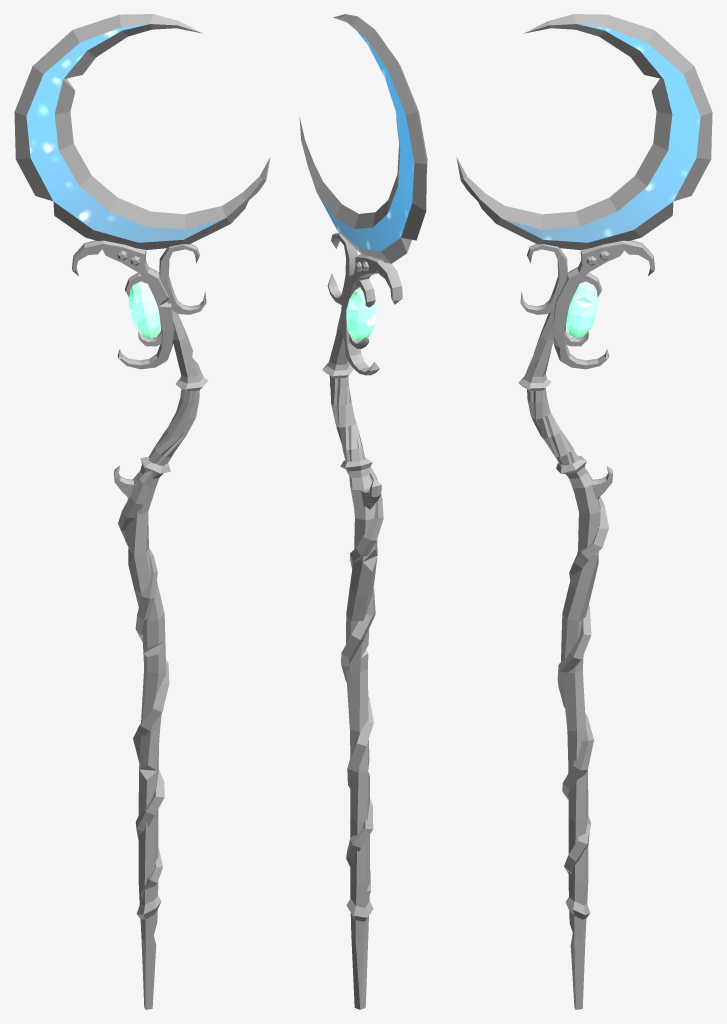
Rendered from SM_Wep_Staff_01.fbx.
The picture shows the model from 3 angles, left to right: view 1: azimuth 90°, elevation 25°; view 2: azimuth 210°, elevation 25°; view 3: azimuth 270°, elevation 25°; orthographic projection.
Visible parts, largest first — view 1: SM_Wep_Staff_01; view 2: SM_Wep_Staff_01; view 3: SM_Wep_Staff_01.
Part boxes in pixels (x1=…): SM_Wep_Staff_01: x1=14, y1=14, x2=270, y2=1009; SM_Wep_Staff_01: x1=299, y1=14, x2=427, y2=1009; SM_Wep_Staff_01: x1=456, y1=14, x2=712, y2=1009.
Size of the model in its own units: 6.84 by 202 by 47.08.
